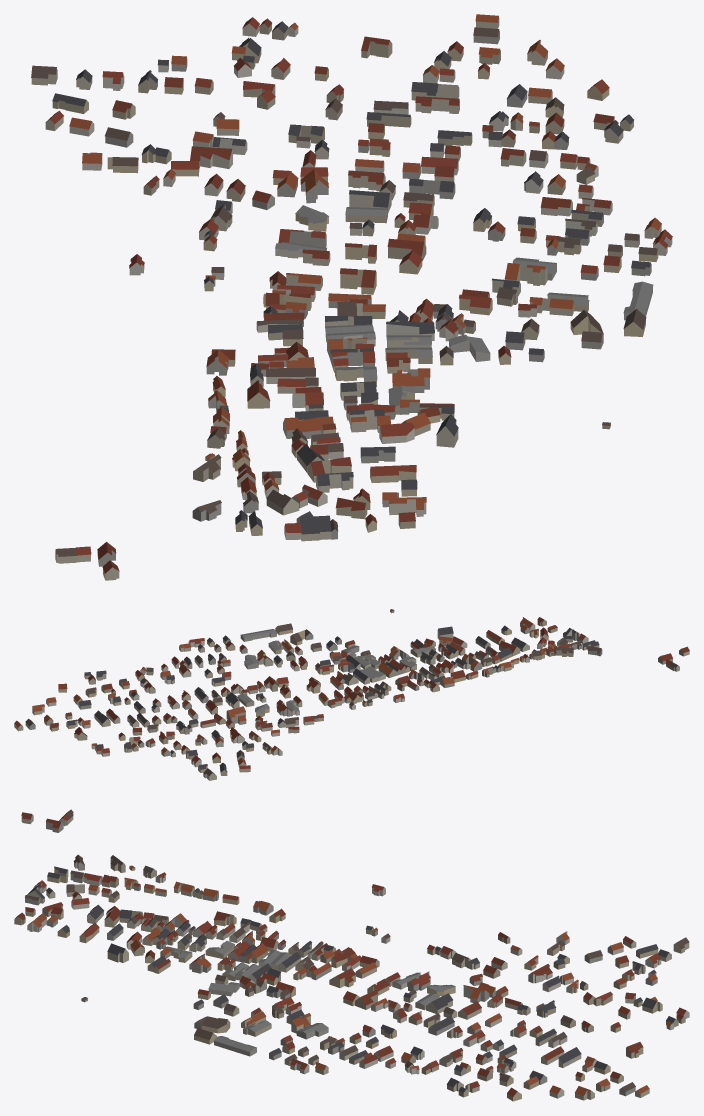
3 views of the same model, one above another, from view 1: azimuth 30°, elevation 25°; view 2: azimuth 150°, elevation 25°; view 3: azimuth 270°, elevation 25° (orthographic). The views are drawn at different scales.
Parts seen in each view (by area): view 1: buildings; view 2: buildings; view 3: buildings.
Boxes of the visible parts, <box> form: buildings: <box>31,14,672,580</box>; buildings: <box>14,609,689,780</box>; buildings: <box>14,809,689,1101</box>.
Bounding box in the file's own units: 782 × 54.63 × 791.
